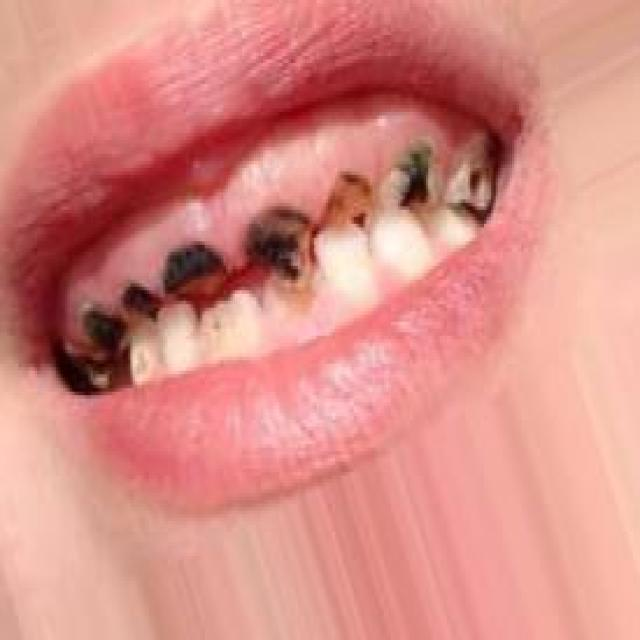caries: (235, 194, 318, 295), (382, 132, 449, 231), (161, 232, 230, 308), (321, 161, 377, 246), (74, 294, 130, 376), (448, 134, 501, 215), (117, 270, 169, 336)
